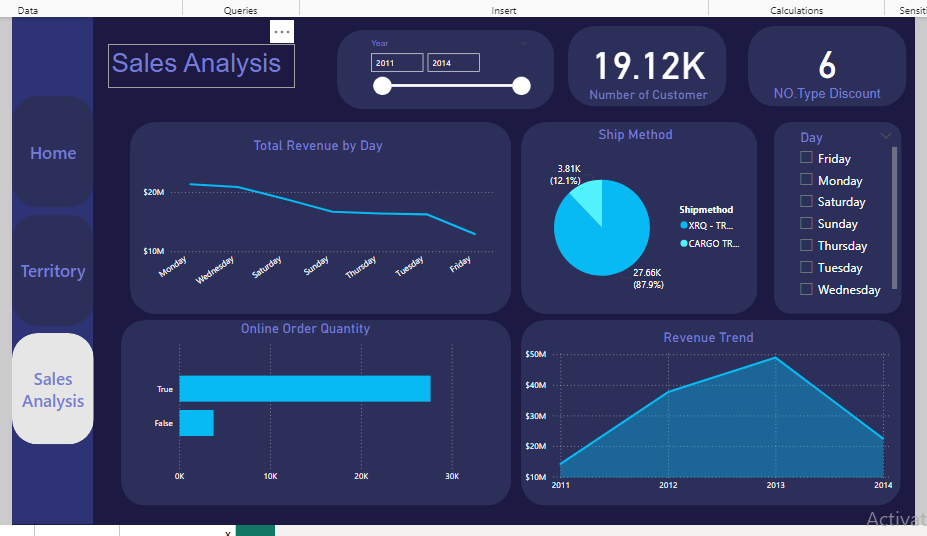

The page's visual inventory and layout, read from the dashboard file:
{"tool":"powerbi","page":{"name":"Sales Analysis","canvas":[1280,720],"ordinal":2},"visuals":[{"type":"shape","box":[0,0,115.1,719.2],"z":0},{"type":"pageNavigator","box":[0,112.4,116,496.8],"z":1000},{"type":"shape","box":[788.7,12.7,224.8,114.2],"z":2000},{"type":"shape","box":[1043.2,13.2,224.8,114.2],"z":3000},{"type":"shape","box":[460.5,18.1,308.2,112.4],"z":4000},{"type":"shape","box":[1079.7,149.1,181.2,271.8],"z":5000},{"type":"shape","box":[721.6,148.7,335.4,272],"z":6000},{"type":"shape","box":[166.8,148.7,540.3,272],"z":7000},{"type":"shape","box":[721.6,429.7,538.5,262.9],"z":8000},{"type":"shape","box":[154.1,429.7,553,262.9],"z":9000},{"type":"pieChart","title":"Ship Method","fields":{"Category":["FactOrders.Shipmethod"],"Y":["Count(FactOrders.SalesOrderID)"]},"box":[721.6,154.1,324.5,266.5],"z":10000},{"type":"lineChart","title":"Total Revenue by Day","fields":{"Category":["DimDate.Day Name"],"Y":["Sum(FactOrders.TotalDue)"]},"box":[179.5,170.4,507.6,232.1],"z":11000},{"type":"stackedAreaChart","title":"Revenue Trend","fields":{"Category":["DimDate.Year"],"Y":["Sum(FactOrders.TotalDue)"]},"box":[721.6,442.4,531.2,239.3],"z":12000},{"type":"slicer","fields":{"Values":["DimDate.Year"]},"box":[496.8,25.4,246.6,105.2],"z":13000},{"type":"slicer","fields":{"Values":["DimDate.Day Name"]},"box":[1104.1,154.1,155.9,248.4],"z":14000},{"type":"card","fields":{"Values":["Count(DimSpecialOffers.Type)"]},"box":[1057,14.5,195.8,112.4],"z":15000},{"type":"clusteredBarChart","title":"Online Order Quantity","fields":{"Y":["CountNonNull(FactOrders.SalesOrderID)"],"Category":["FactOrders.OnlineOrderFlag"]},"box":[194,429.7,444.2,239.3],"z":16000},{"type":"card","fields":{"Values":["Count(FactOrders.CustomerID)"]},"box":[810.4,14.5,183.1,116],"z":17000},{"type":"textbox","box":[136.7,38.2,263.9,62],"z":18000}]}

Visuals, with their boxes on the page's 1280x720 design canvas (x1, y1, x2, y2). These are canvas units, not pixel positions in the 927x536 screenshot, which may show the page scaled, cropped or inside an application window:
shape: {"left": 0, "top": 0, "right": 115, "bottom": 719}
pageNavigator: {"left": 0, "top": 112, "right": 116, "bottom": 609}
shape: {"left": 789, "top": 13, "right": 1014, "bottom": 127}
shape: {"left": 1043, "top": 13, "right": 1268, "bottom": 127}
shape: {"left": 460, "top": 18, "right": 769, "bottom": 130}
shape: {"left": 1080, "top": 149, "right": 1261, "bottom": 421}
shape: {"left": 722, "top": 149, "right": 1057, "bottom": 421}
shape: {"left": 167, "top": 149, "right": 707, "bottom": 421}
shape: {"left": 722, "top": 430, "right": 1260, "bottom": 693}
shape: {"left": 154, "top": 430, "right": 707, "bottom": 693}
"Ship Method" pieChart: {"left": 722, "top": 154, "right": 1046, "bottom": 421}
"Total Revenue by Day" lineChart: {"left": 180, "top": 170, "right": 687, "bottom": 402}
"Revenue Trend" stackedAreaChart: {"left": 722, "top": 442, "right": 1253, "bottom": 682}
slicer - DimDate.Year: {"left": 497, "top": 25, "right": 743, "bottom": 131}
slicer - DimDate.Day Name: {"left": 1104, "top": 154, "right": 1260, "bottom": 402}
card - Count(DimSpecialOffers.Type): {"left": 1057, "top": 14, "right": 1253, "bottom": 127}
"Online Order Quantity" clusteredBarChart: {"left": 194, "top": 430, "right": 638, "bottom": 669}
card - Count(FactOrders.CustomerID): {"left": 810, "top": 14, "right": 994, "bottom": 130}
textbox: {"left": 137, "top": 38, "right": 401, "bottom": 100}
